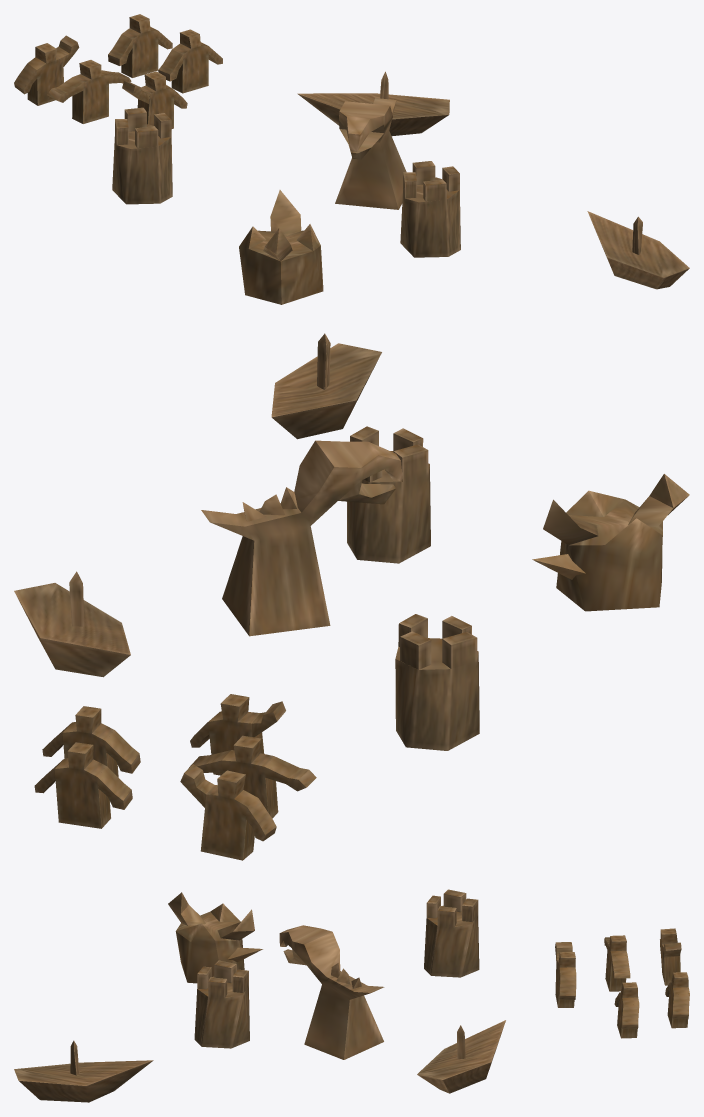
The model's file is SM_Town005_QZZ.FBX.
3 views of the same model, one above another, from view 1: azimuth 30°, elevation 25°; view 2: azimuth 150°, elevation 25°; view 3: azimuth 270°, elevation 25° (orthographic). The views are drawn at different scales.
Visible parts, largest first — view 1: SM_Town005_QZZ; view 2: SM_Town005_QZZ; view 3: SM_Town005_QZZ.
Part boxes in pixels (bbox=[...]): SM_Town005_QZZ: bbox=[14, 14, 689, 304]; SM_Town005_QZZ: bbox=[14, 333, 689, 860]; SM_Town005_QZZ: bbox=[14, 889, 689, 1102].
Bounding box in the file's own units: 224 × 423 × 67.87.
1 material, 1 textured.
